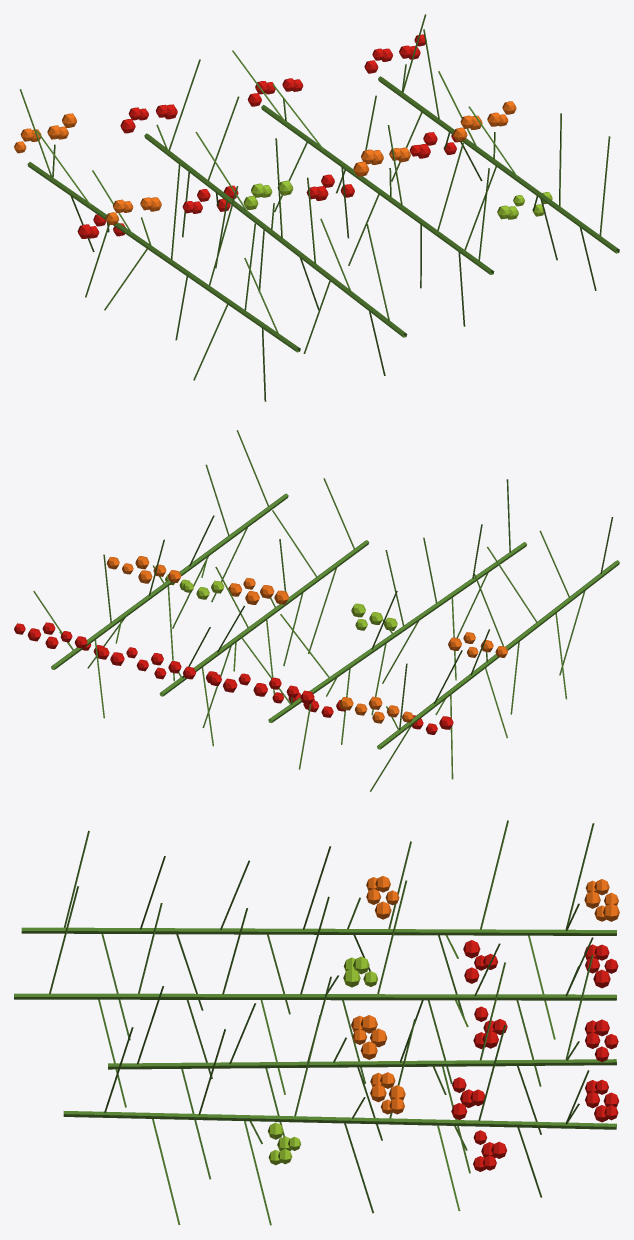
File: r15c2_stems.obj
3 renders of one model, top to bottom at view 1: azimuth 30°, elevation 25°; view 2: azimuth 150°, elevation 25°; view 3: azimuth 270°, elevation 25°, orthographic. The views are drawn at different scales.
Parts seen in each view (by area): view 1: r15c2_stems; view 2: r15c2_stems; view 3: r15c2_stems.
Part boxes in pixels (x1,y1,x2,y2): r15c2_stems: (14,14,619,401); r15c2_stems: (14,430,619,791); r15c2_stems: (14,820,619,1225).
Bounding box in the file's own units: 2.12 × 0.8761 × 2.25.
